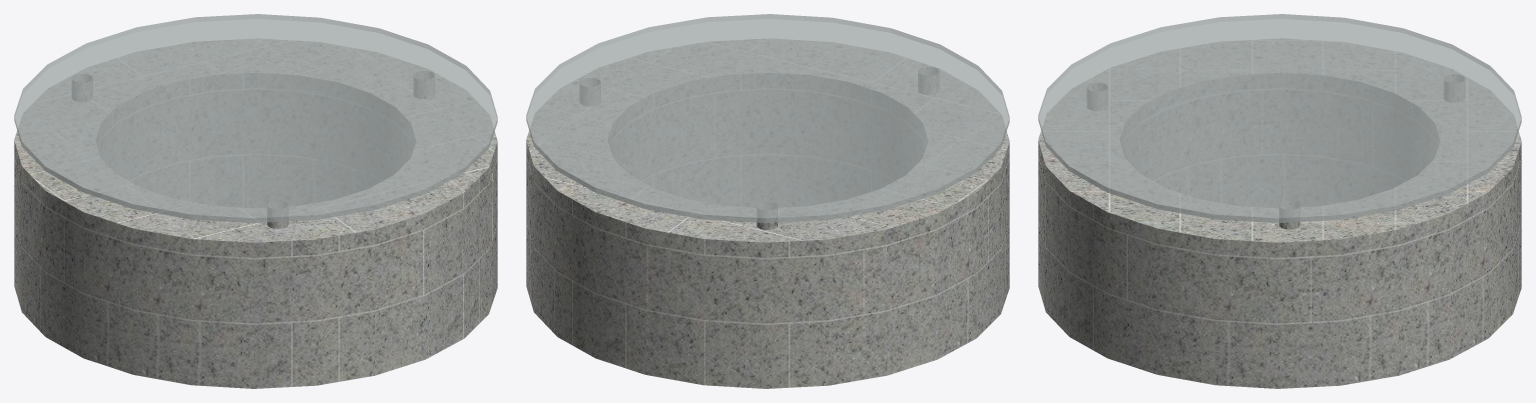
3 views of the same model, side by side, from view 1: azimuth 30°, elevation 25°; view 2: azimuth 150°, elevation 25°; view 3: azimuth 270°, elevation 25° (orthographic).
Parts seen in each view (by area): view 1: root; view 2: root; view 3: root.
Boxes of the visible parts, <box> form: root: <box>14,14,497,388</box>; root: <box>526,14,1009,388</box>; root: <box>1038,14,1521,388</box>.
Size of the model in its own units: 1.8 by 0.7 by 1.8.
Materials: 2 (1 with a texture image).
